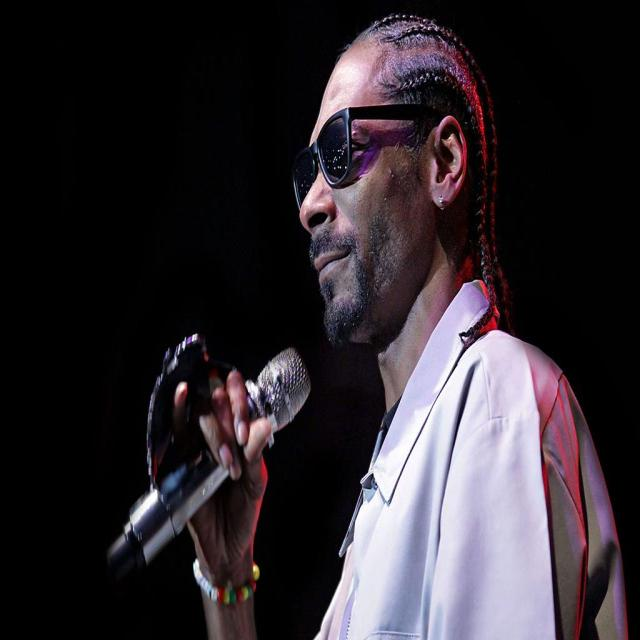Face: (301, 31, 432, 350)
